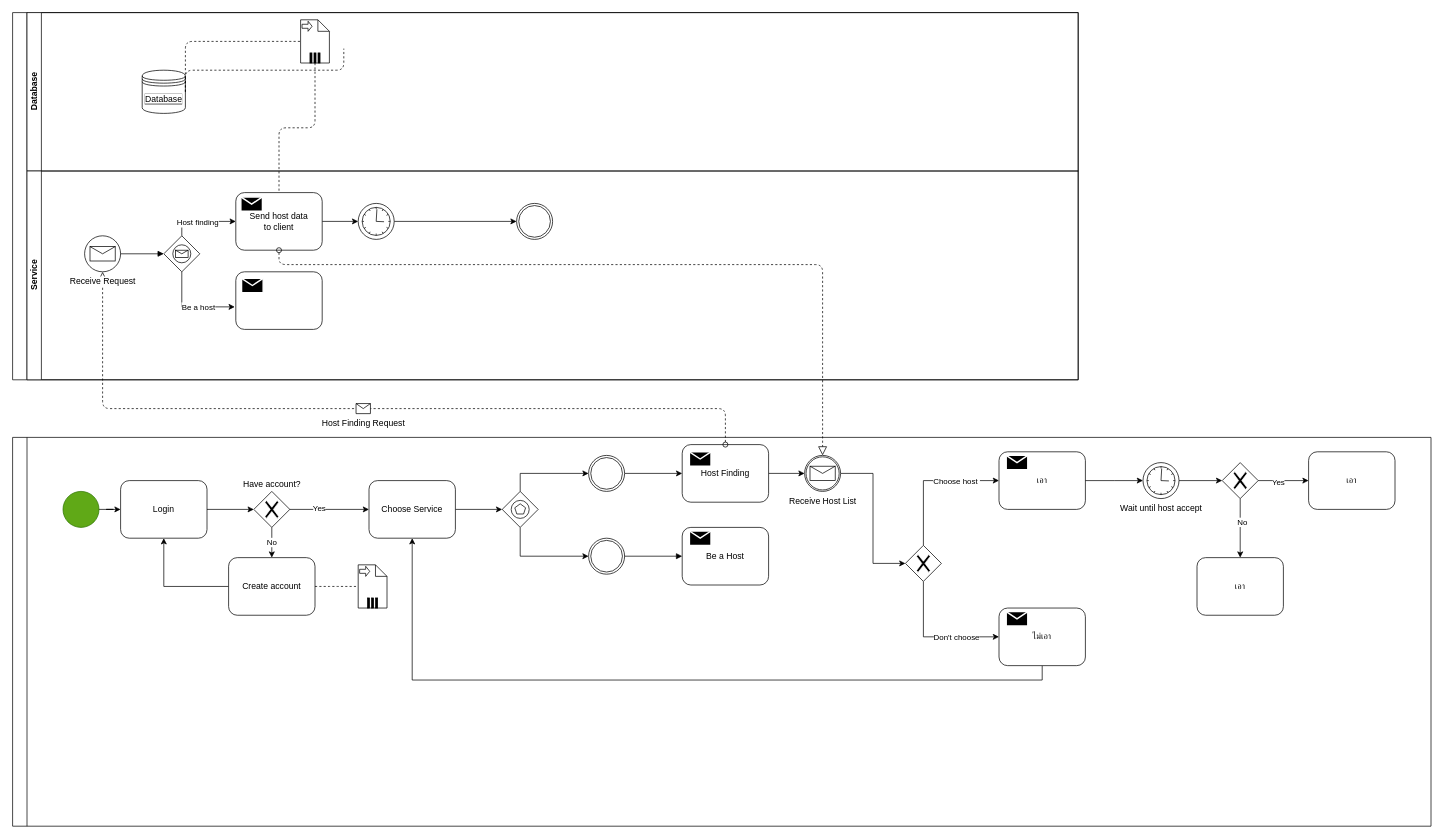
The diagram is 1444 pixels wide and 839 high, and some of its shapes have lost their labels. Here are the shapes that lost their labels. From the top down, the box of each, then its label:
(300, 19, 329, 63): Host data
(12, 12, 1078, 380): Hostdog
(357, 203, 394, 239): Wait for data
(516, 203, 553, 239): Received data
(588, 455, 625, 491): Finding the host
(62, 491, 99, 527): User open website
(588, 537, 625, 574): Want to be host
(357, 564, 387, 608): User Information
(12, 437, 1431, 826): Customer
